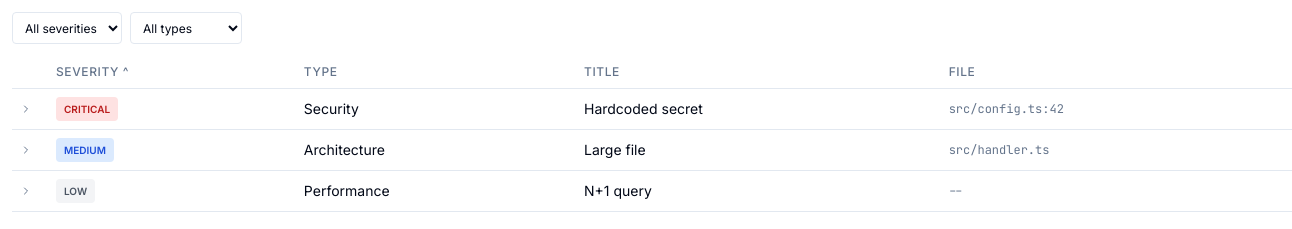
FindingsTable › shows empty state when no findings match filter
Step 1. Select "info" in the 1st dropdown → x=67, y=28, box [12,12,122,44]
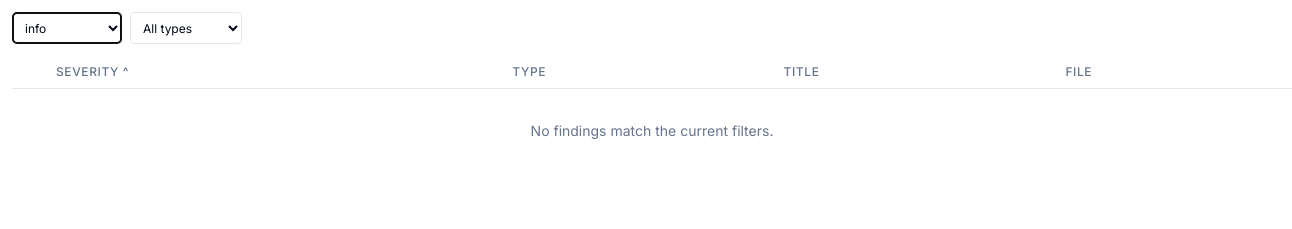
Expected: the text "No findings match the current filters." is shown, [531,122,773,139]
